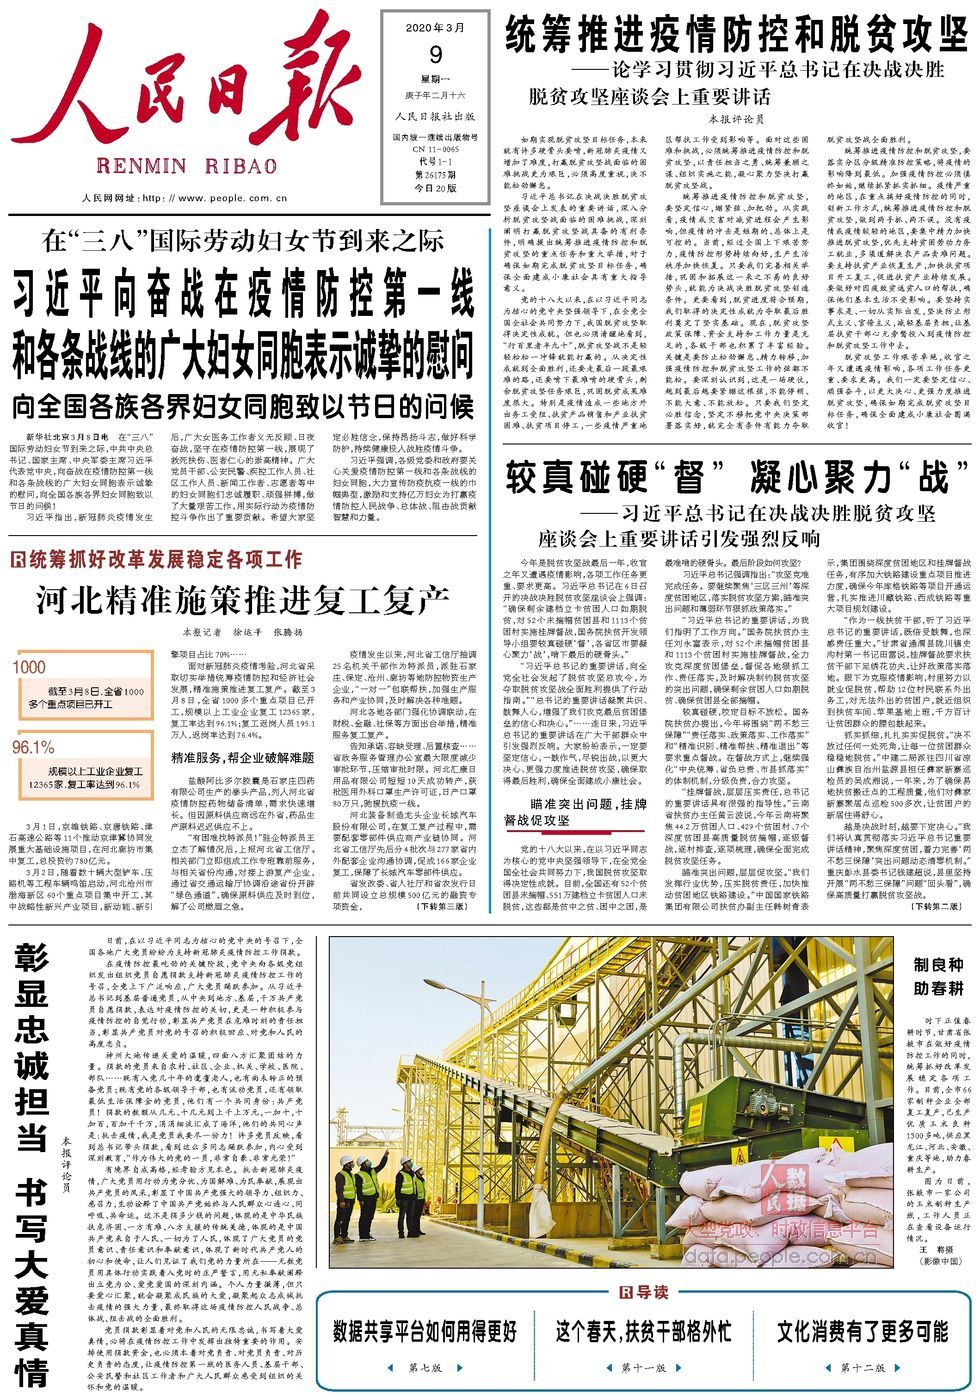pic: (323, 932, 899, 1274)
